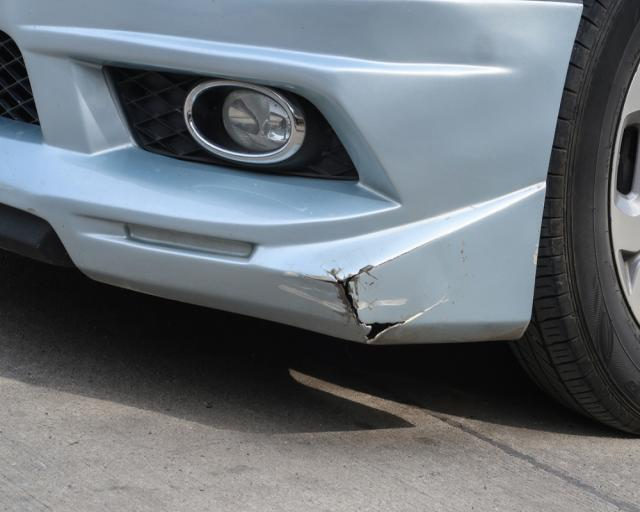crack: (303, 236, 449, 342)
scratch: (276, 267, 349, 312)
